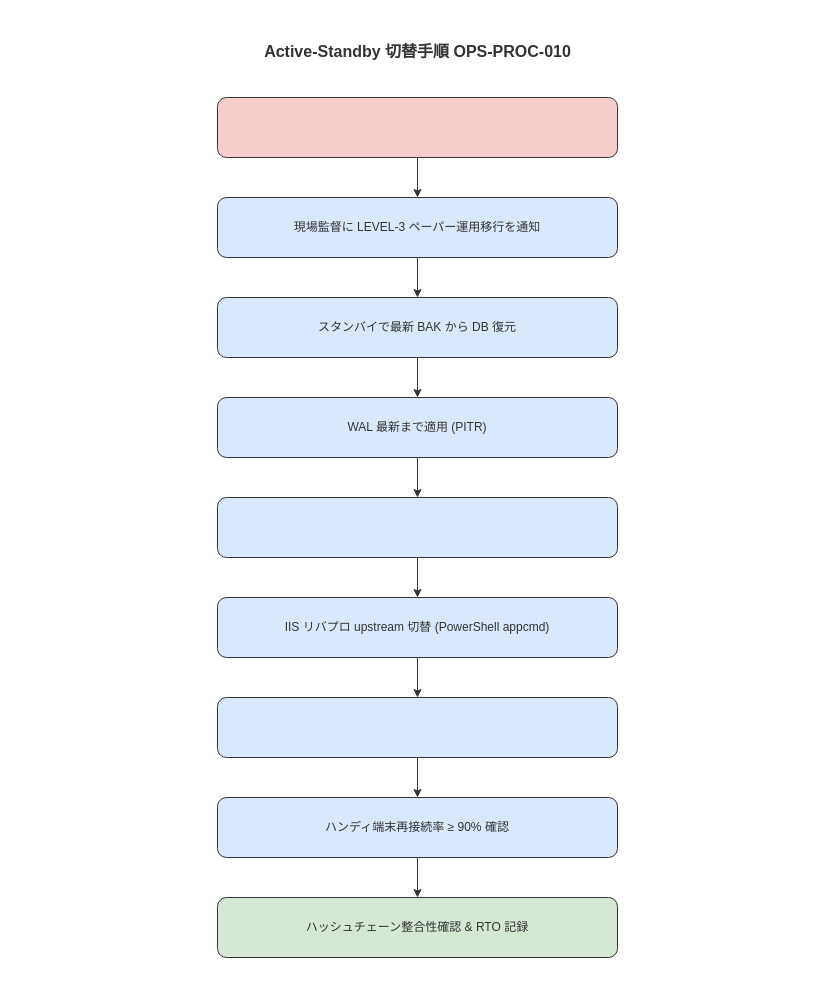
Image size: 834x994. Some labels were removed from this diagram. Here are the shapes that lost their labels. From the top down, the centre of each, then its label:
At (x=417, y=127): "プライマリ停止確認 ping / docker ps".
At (x=417, y=527): "API / master-ui コンテナ起動 docker compose up".
At (x=417, y=727): "ヘルスチェック /health 200 OK 確認".
